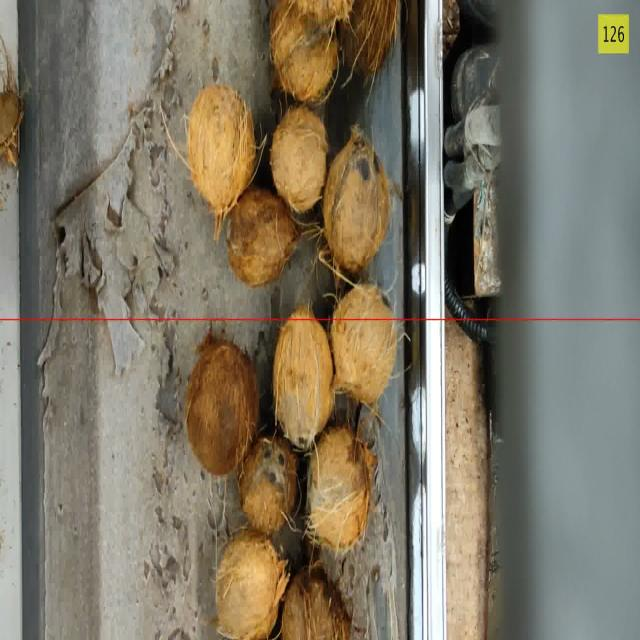Coconut-Conveyor-Belt: (185, 337, 258, 475), (323, 128, 390, 273), (274, 306, 334, 451), (308, 425, 375, 552), (330, 285, 397, 407), (216, 530, 288, 639), (192, 95, 255, 217), (227, 188, 298, 286), (270, 2, 338, 102), (271, 107, 328, 212), (239, 437, 297, 533), (282, 563, 350, 639), (340, 0, 398, 75), (0, 37, 23, 166), (0, 92, 23, 165), (291, 0, 353, 22)
